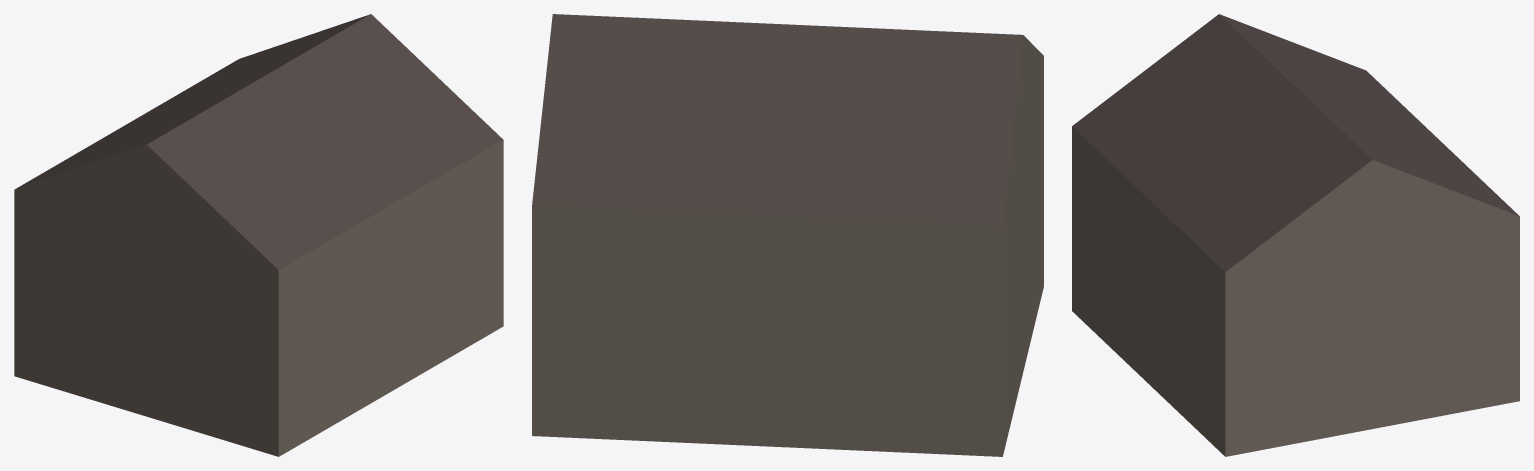
3 views of the same model, side by side, from view 1: azimuth 30°, elevation 25°; view 2: azimuth 150°, elevation 25°; view 3: azimuth 270°, elevation 25° (orthographic). The views are drawn at different scales.
Parts seen in each view (by area): view 1: HP-w1202250231; view 2: HP-w1202250231; view 3: HP-w1202250231.
Part boxes in pixels (bbox=[...]): HP-w1202250231: bbox=[14, 14, 503, 456]; HP-w1202250231: bbox=[532, 14, 1043, 456]; HP-w1202250231: bbox=[1072, 14, 1519, 456].
Size of the model in its own units: 21.08 by 13.11 by 19.78.
